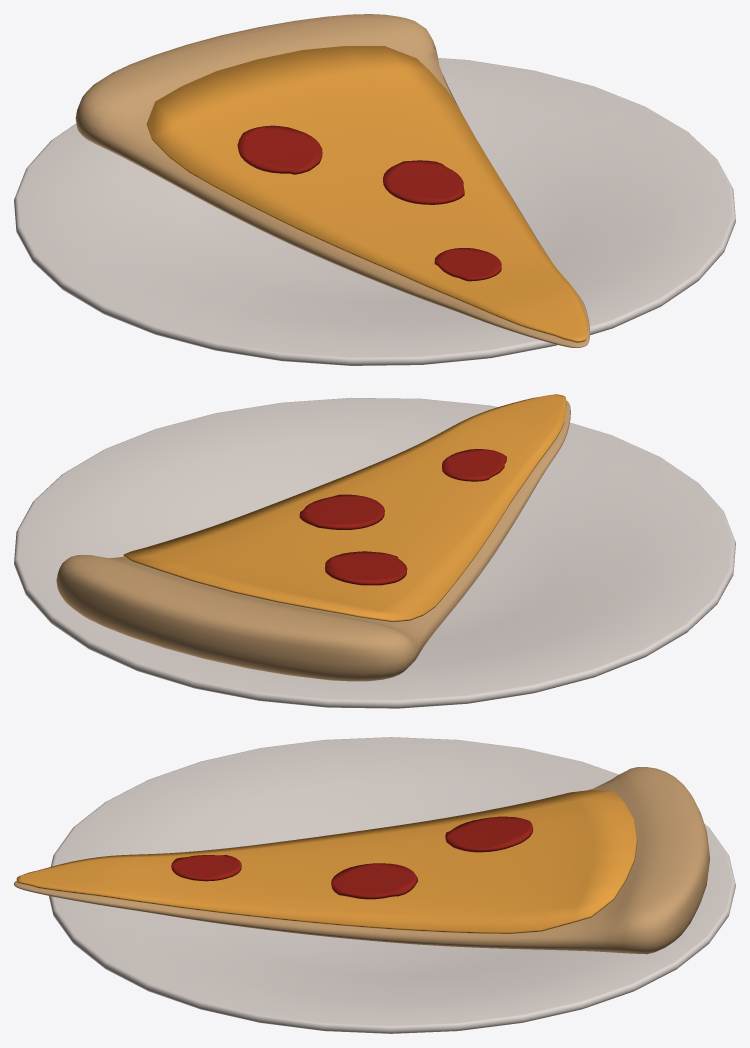
File: PIZZA.fbx
3 views of the same model, one above another, from view 1: azimuth 30°, elevation 25°; view 2: azimuth 150°, elevation 25°; view 3: azimuth 270°, elevation 25° (orthographic). The views are drawn at different scales.
Visible parts, largest first — view 1: Circle; view 2: Circle; view 3: Circle.
Part boxes in pixels (x1=…): Circle: x1=14, y1=14, x2=735, y2=365; Circle: x1=14, y1=394, x2=735, y2=708; Circle: x1=14, y1=737, x2=735, y2=1033.
Bounding box in the file's own units: 29.26 × 4.37 × 30.64.
